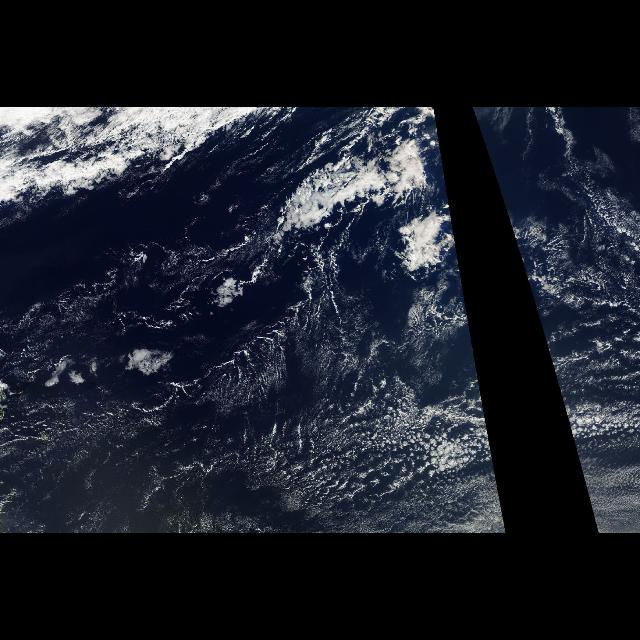Gravel: (10, 232, 462, 532)
Sugar: (331, 395, 507, 533), (8, 405, 132, 519), (560, 395, 640, 533)
